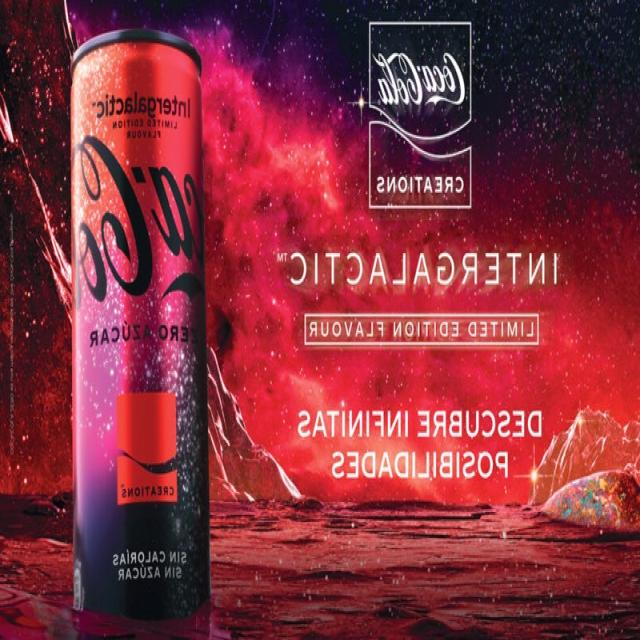coca cola: (69, 142, 204, 334), (364, 46, 471, 125)
